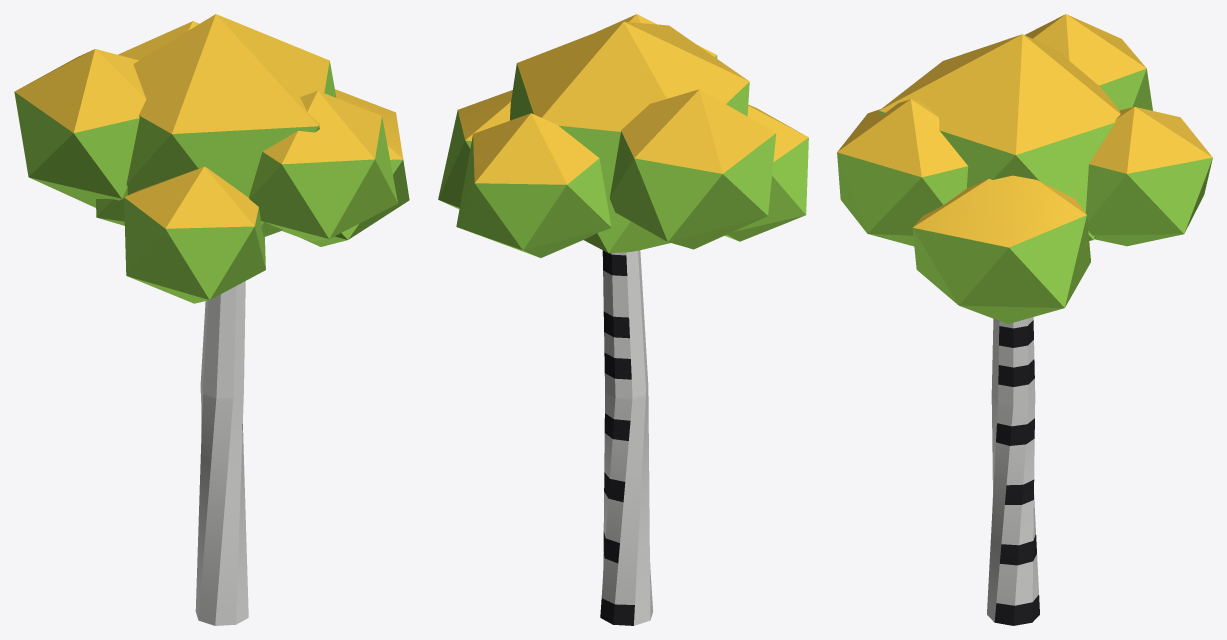
Rendered from BirchTree.fbx.
3 views of the same model, side by side, from view 1: azimuth 30°, elevation 25°; view 2: azimuth 150°, elevation 25°; view 3: azimuth 270°, elevation 25° (orthographic). The views are drawn at different scales.
Parts seen in each view (by area): view 1: BirchTree; view 2: BirchTree; view 3: BirchTree.
Part boxes in pixels (box(x1,y1,x2,y2)): BirchTree: box(14, 14, 409, 625); BirchTree: box(438, 14, 808, 625); BirchTree: box(837, 14, 1212, 625).
Bounding box in the file's own units: 7.85 × 13.21 × 7.76.
Materials: 1 (1 with a texture image).
